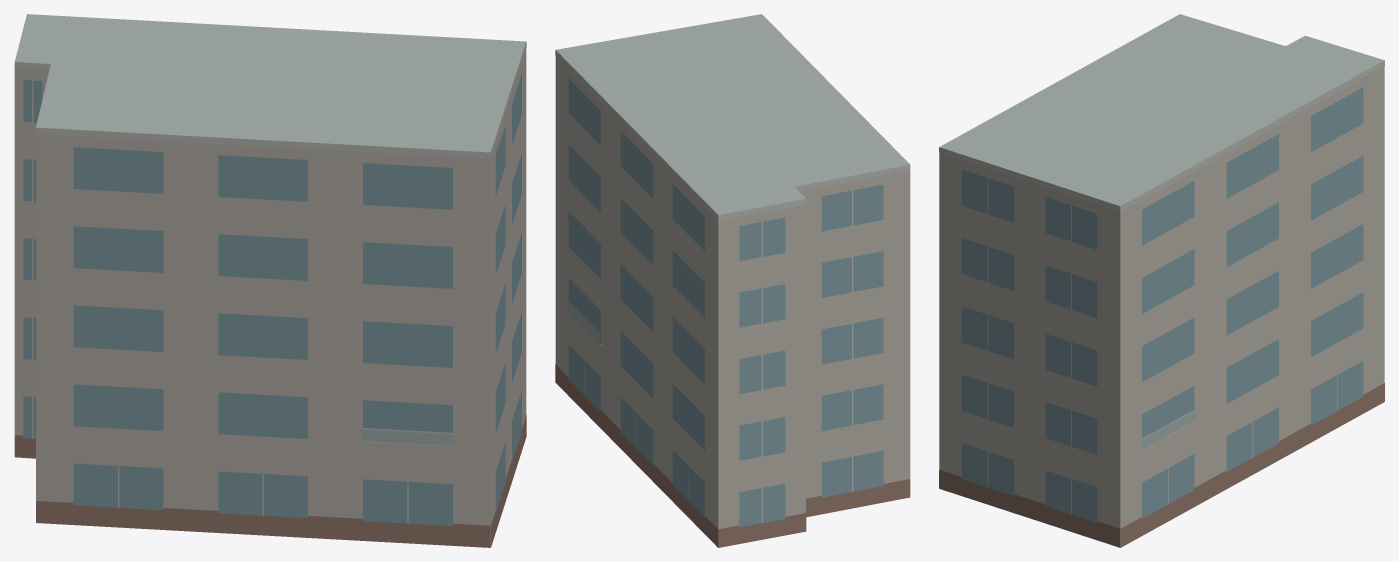
The model's file is survey-upis-33034423.glb.
The picture shows the model from 3 angles, left to right: view 1: azimuth 30°, elevation 25°; view 2: azimuth 150°, elevation 25°; view 3: azimuth 270°, elevation 25°; orthographic projection. The views are drawn at different scales.
Parts seen in each view (by area): view 1: survey-upis-33034423.tmp; view 2: survey-upis-33034423.tmp; view 3: survey-upis-33034423.tmp.
Part boxes in pixels (x1,y1,x2,y2): survey-upis-33034423.tmp: [14, 14, 526, 547]; survey-upis-33034423.tmp: [555, 14, 910, 547]; survey-upis-33034423.tmp: [939, 14, 1384, 547].
Size of the model in its own units: 17.57 by 14.55 by 17.21.
